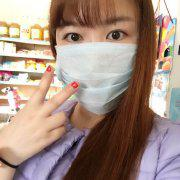OK: (53, 15, 147, 109)
